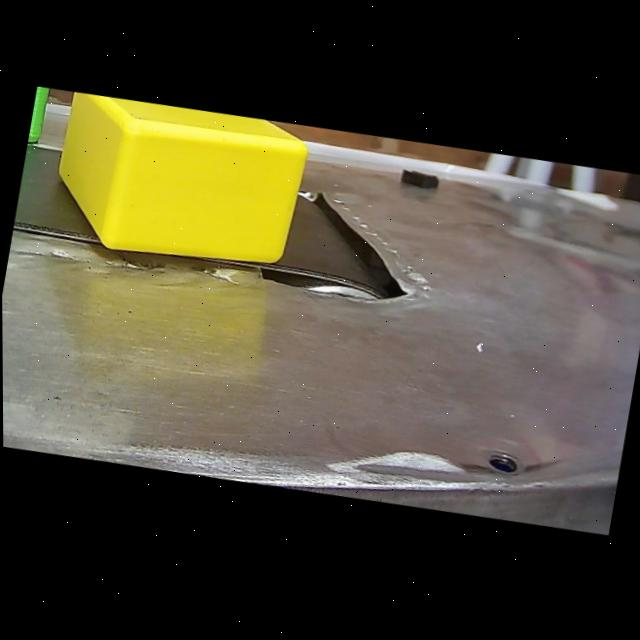greenBox: (26, 86, 54, 154)
yellowBox: (39, 86, 317, 301)
